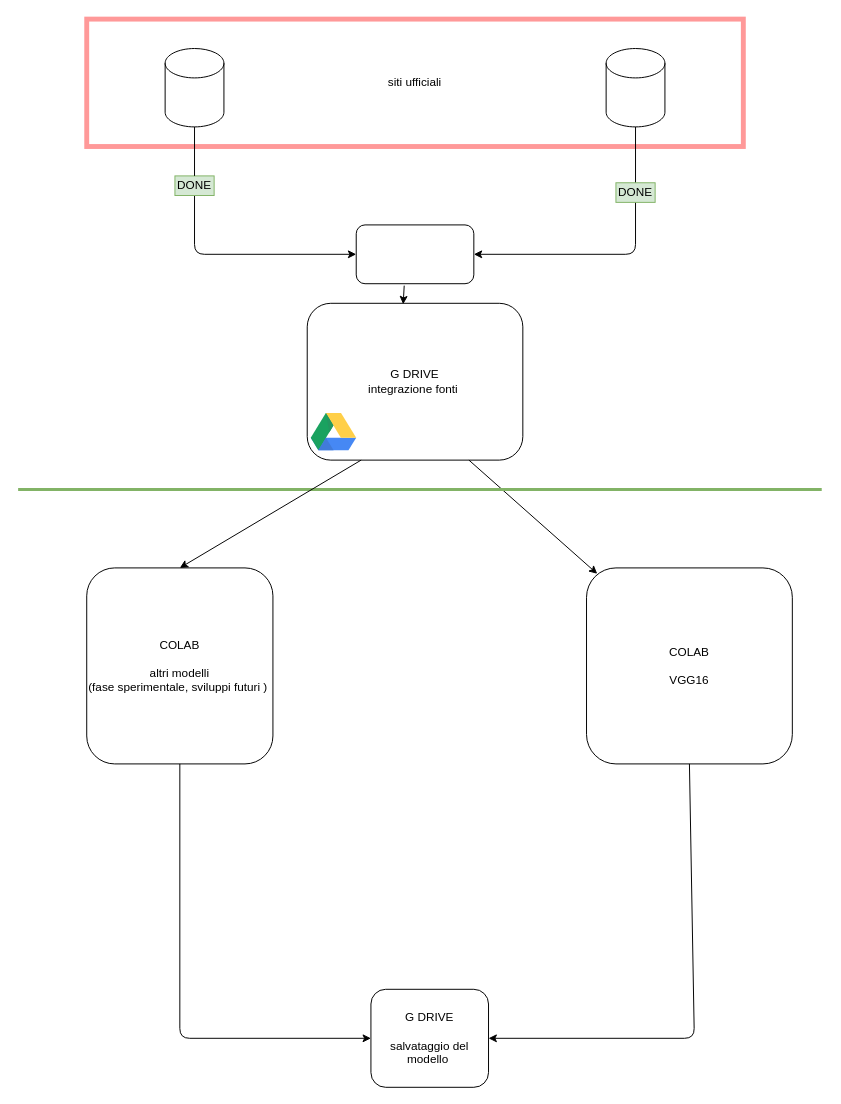
This 841x1104 diagram has some shape labels left out. The shapes that lost their labels are listed below. From the top down, each one's centre as x and y in pixels, then its label:
the point at 194,87: INDOOR
the point at 635,87: SUN
the point at 414,254: COLAB
